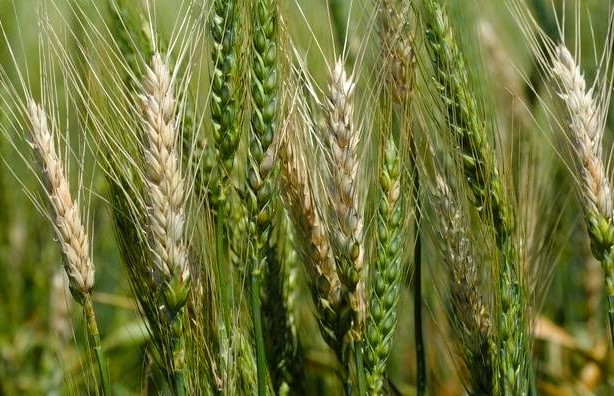Wheat scab: (133, 59, 202, 316), (17, 101, 102, 303), (308, 47, 373, 300), (547, 34, 614, 252)
